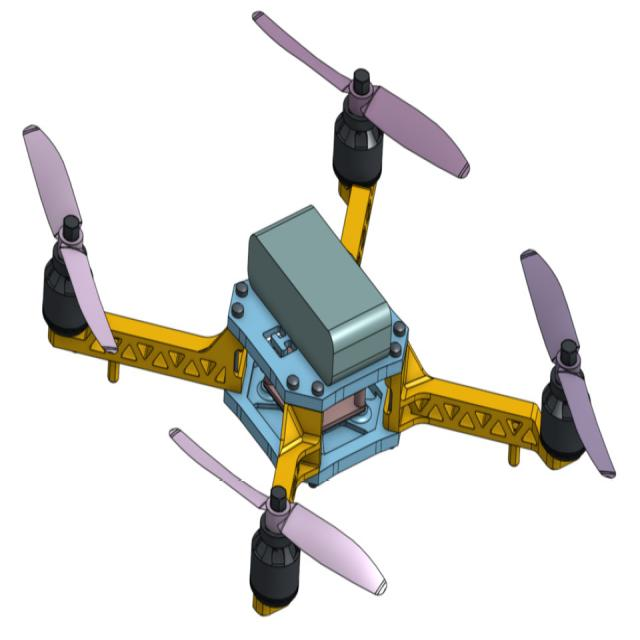drone: (10, 23, 622, 611)
